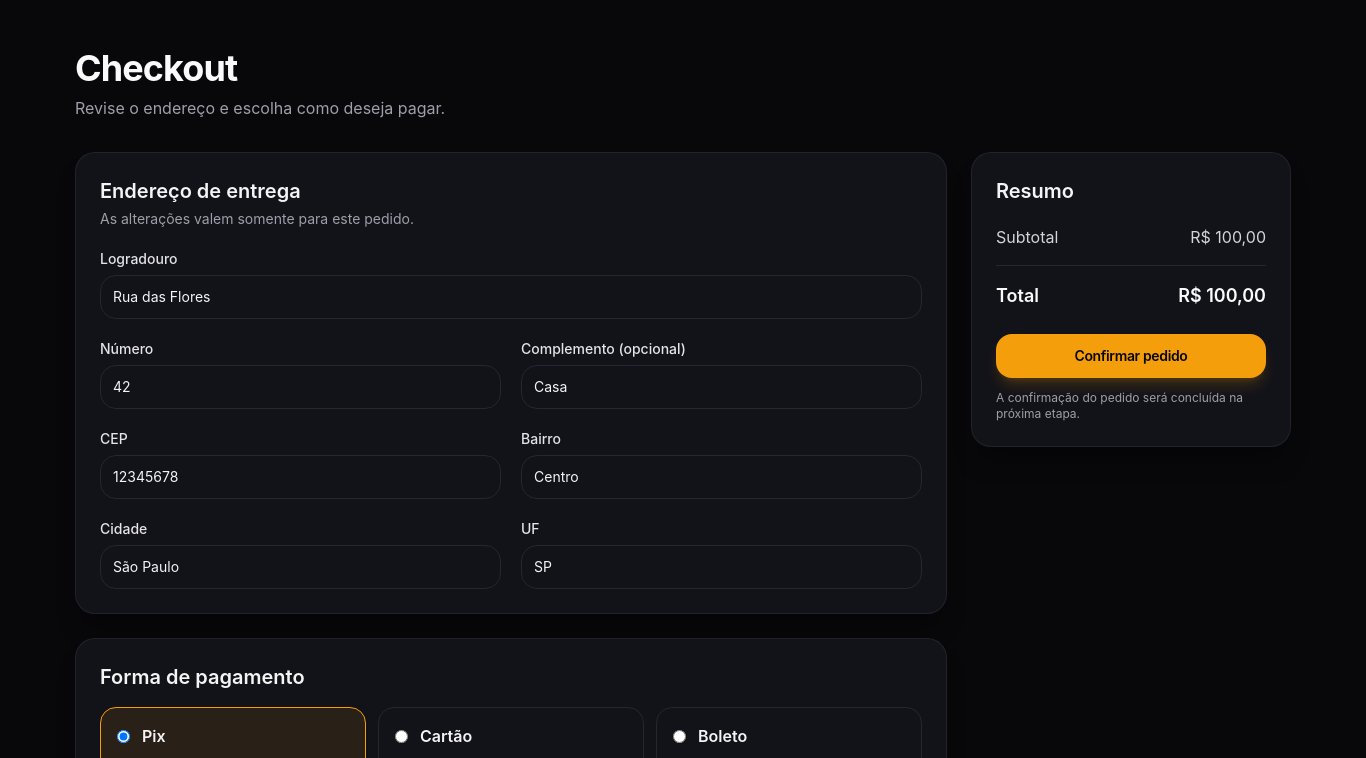
CheckoutPage › does not navigate when the authenticated customer changes during creation
The width and height of the screenshot is (1366, 758).
Click the button "Confirmar pedido" at (1131, 356), box [996,334,1266,378]
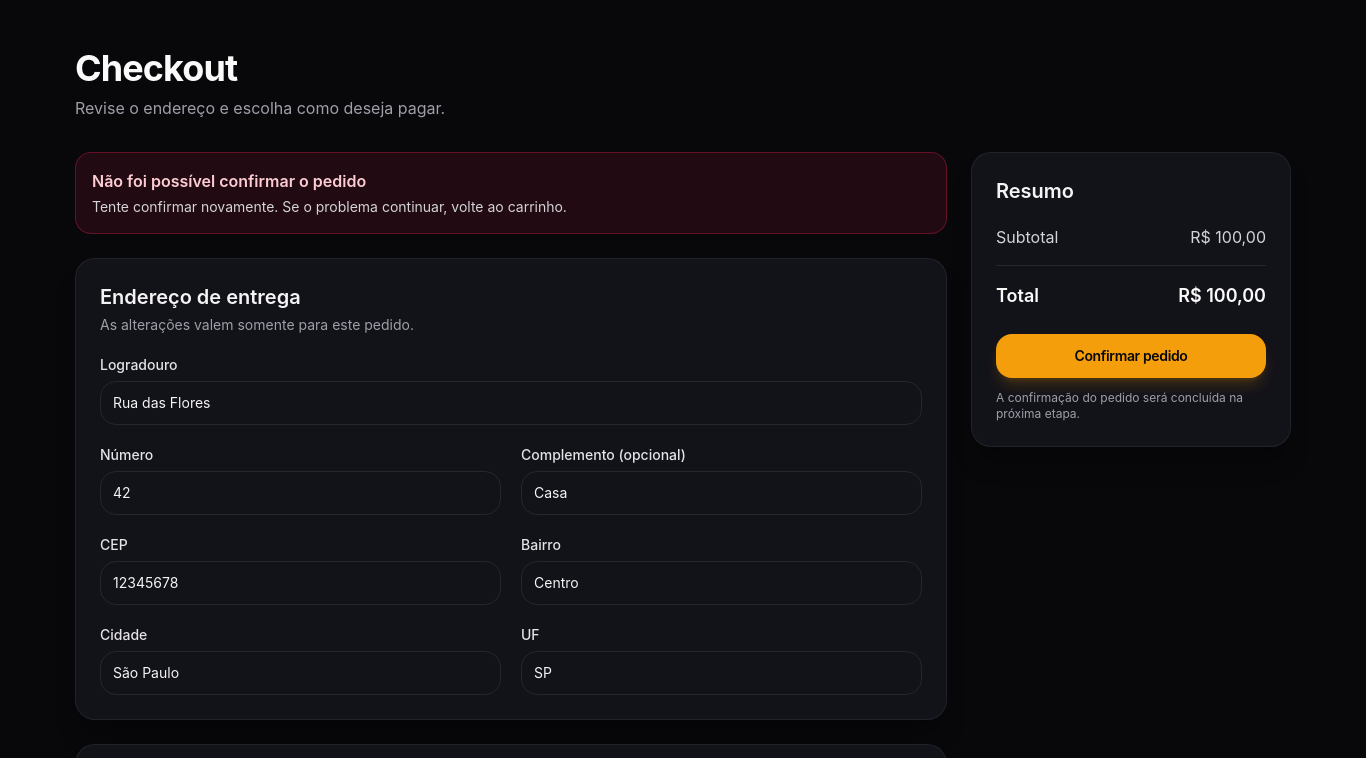
Expected: the heading "Checkout" is shown, [75,46,237,90]
Result: the message shows "Tente confirmar novamente. Se o problema continuar, volte ao carrinho." at [92,198,567,215]
